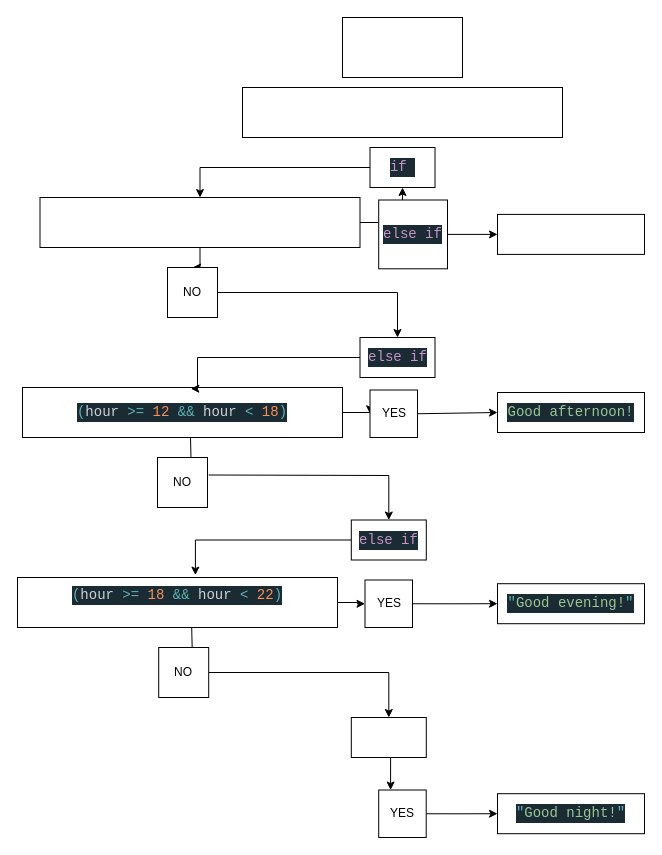
Some shapes in this 662 by 855 pixel diagram are drawn without their labels. The shapes that lost their labels are listed below. From the top down, each one's centre as x and y in pixels, then its label:
[402,47]: Start
[402,112]: [Get current hour]
[199,222]: hour >= 5 && hour < 12
[570,233]: " Good morning! "
[388,737]: else
